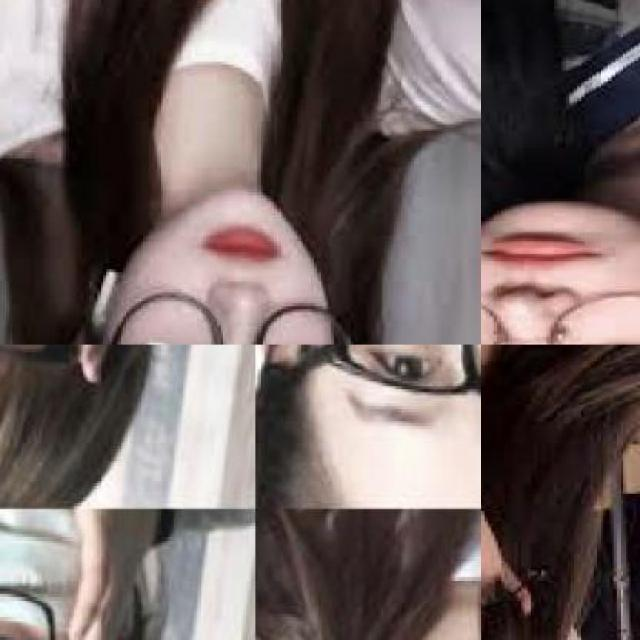glasses: (80, 289, 380, 343), (278, 344, 476, 400), (480, 506, 563, 629), (479, 290, 638, 344)
